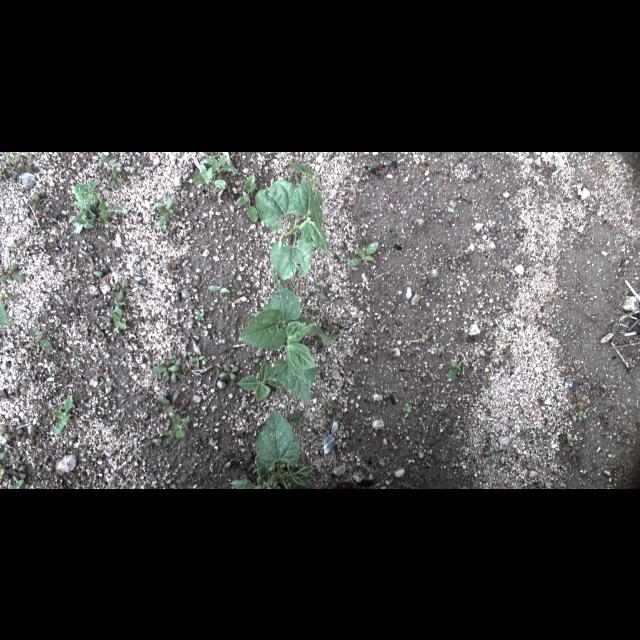crop: (240, 284, 332, 406), (256, 160, 332, 280), (230, 408, 316, 488), (236, 361, 288, 404), (1, 296, 13, 326)
weed: (70, 180, 128, 233), (236, 174, 258, 222), (52, 394, 74, 436), (152, 351, 180, 384), (164, 413, 192, 445), (192, 163, 228, 187), (199, 154, 237, 176), (154, 196, 180, 224), (24, 327, 54, 351), (348, 241, 378, 265), (158, 392, 182, 418), (1, 264, 26, 282), (445, 360, 465, 382), (117, 276, 135, 300), (207, 284, 231, 300), (284, 410, 302, 428), (218, 362, 238, 378), (7, 464, 26, 480), (26, 191, 44, 207), (34, 202, 50, 220), (112, 313, 126, 333), (272, 273, 286, 293), (564, 439, 580, 456), (110, 169, 124, 185), (88, 262, 102, 278), (144, 432, 160, 446), (190, 354, 204, 370), (102, 156, 122, 167), (80, 244, 92, 262), (163, 256, 181, 268), (15, 160, 30, 174), (97, 376, 113, 389), (8, 426, 22, 440), (4, 154, 20, 166), (113, 299, 125, 315), (0, 424, 10, 440), (432, 342, 444, 354), (574, 409, 588, 419), (518, 427, 532, 437), (10, 480, 24, 488), (194, 310, 204, 320), (402, 402, 412, 412), (490, 447, 496, 461), (567, 436, 575, 442)
